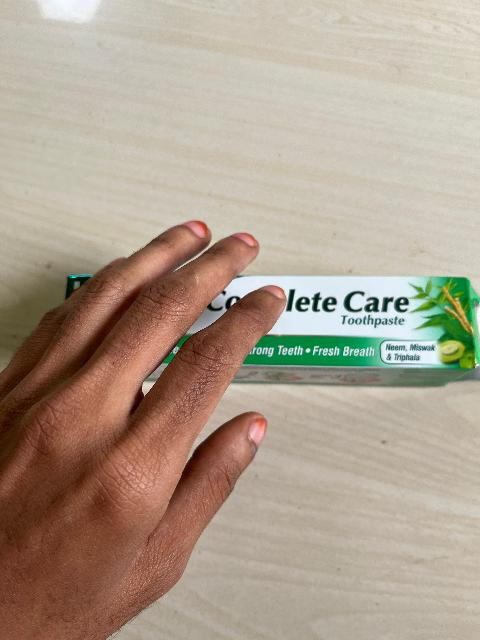hand: (76, 213, 278, 475)
himalaya toothpaste: (284, 273, 480, 376)
